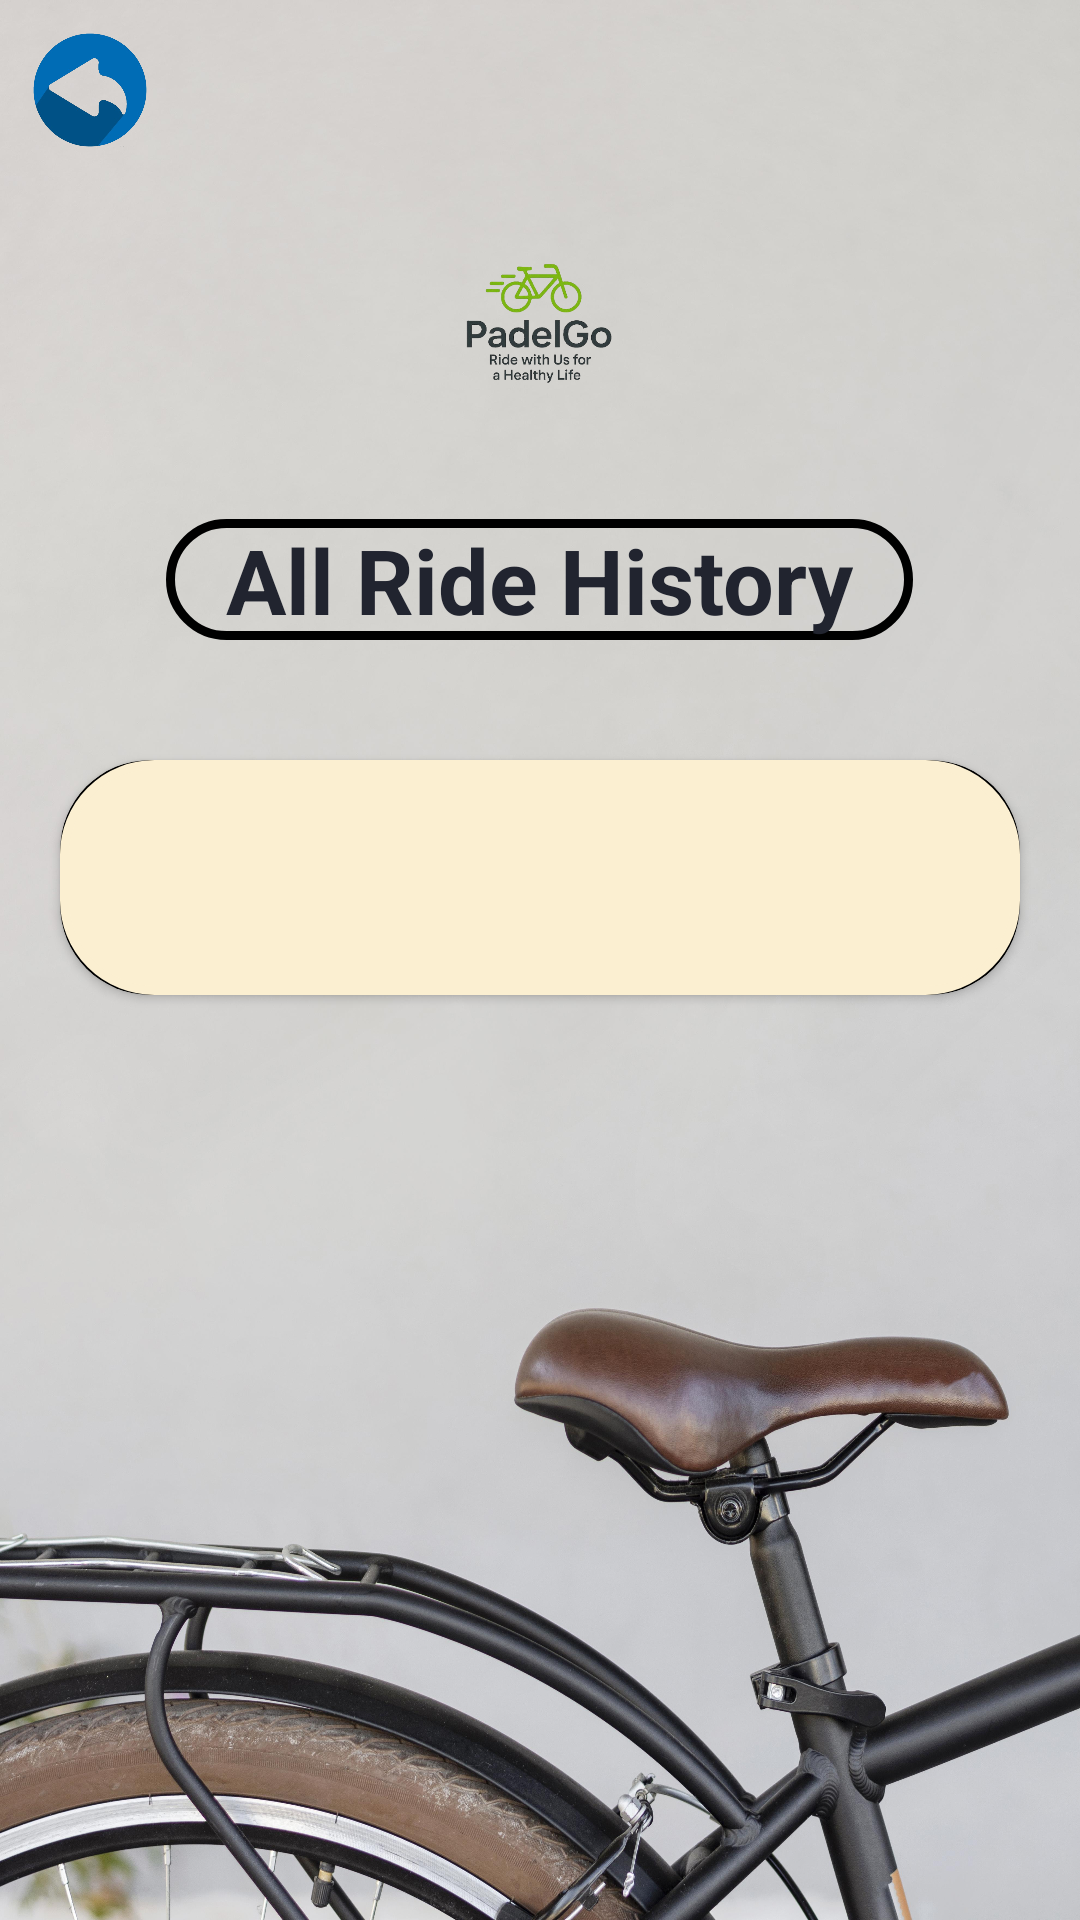

Screen size 1080w x 1920h. Icon name, then its center in pixels as (x=x, y=y):
backbutton: (x=90, y=90)
